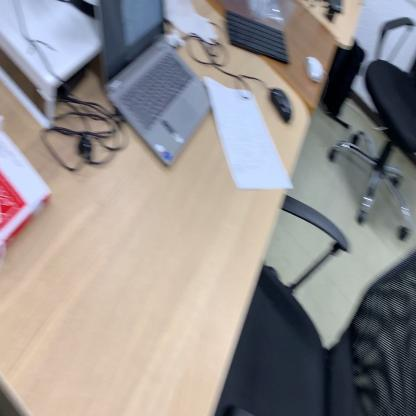chair: (210, 191, 416, 416), (325, 14, 416, 247)
